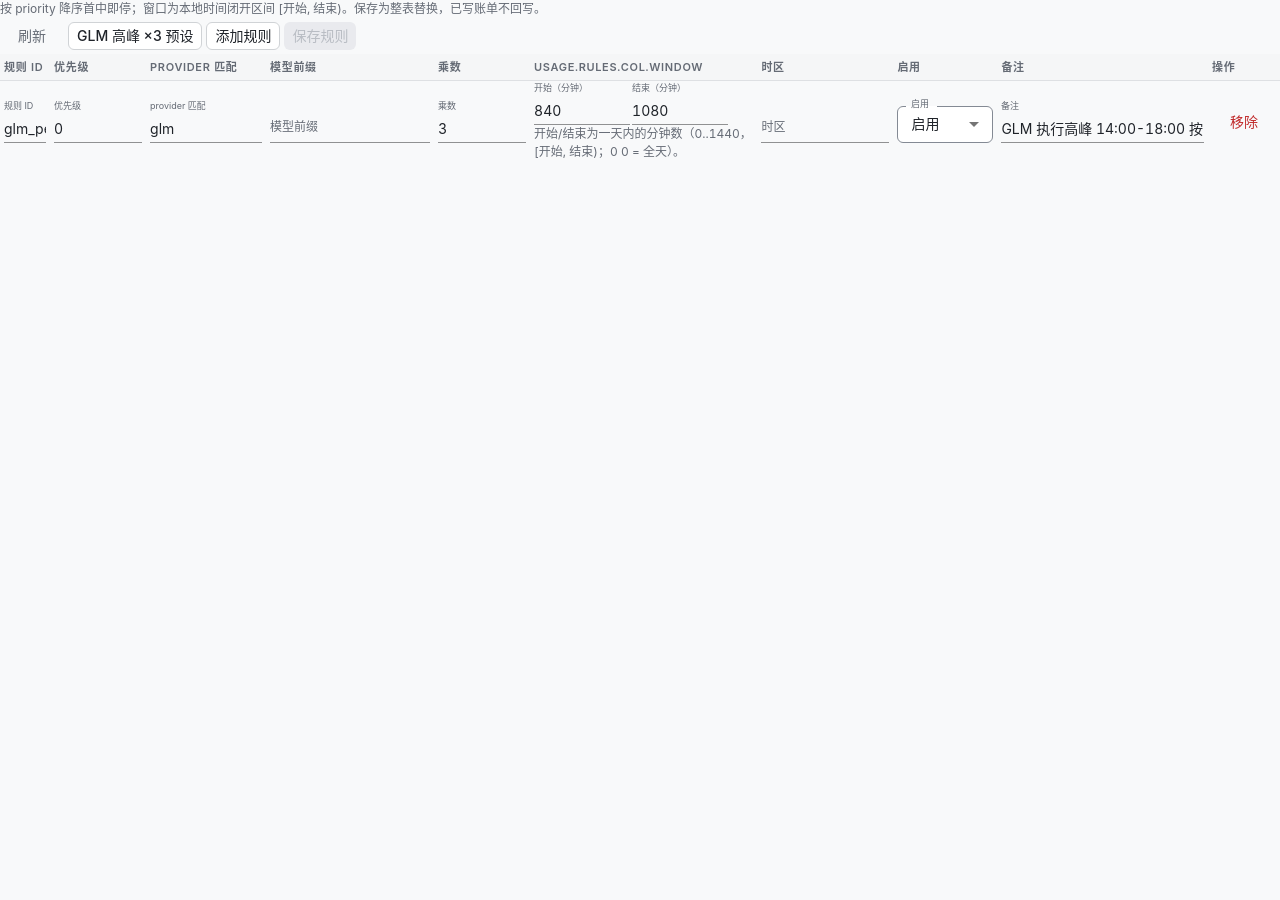
Scenario: PricingRulesEditor（计价规则） › 服务端拒绝时错误面透出且草稿保留（不假装保存成功）
This screenshot has width=1280, height=900.
Expected: the table is shown, [0, 54, 1279, 163]
Replace the text in the field showing "3" with "2.5" at (482, 130), box [438, 117, 526, 143]
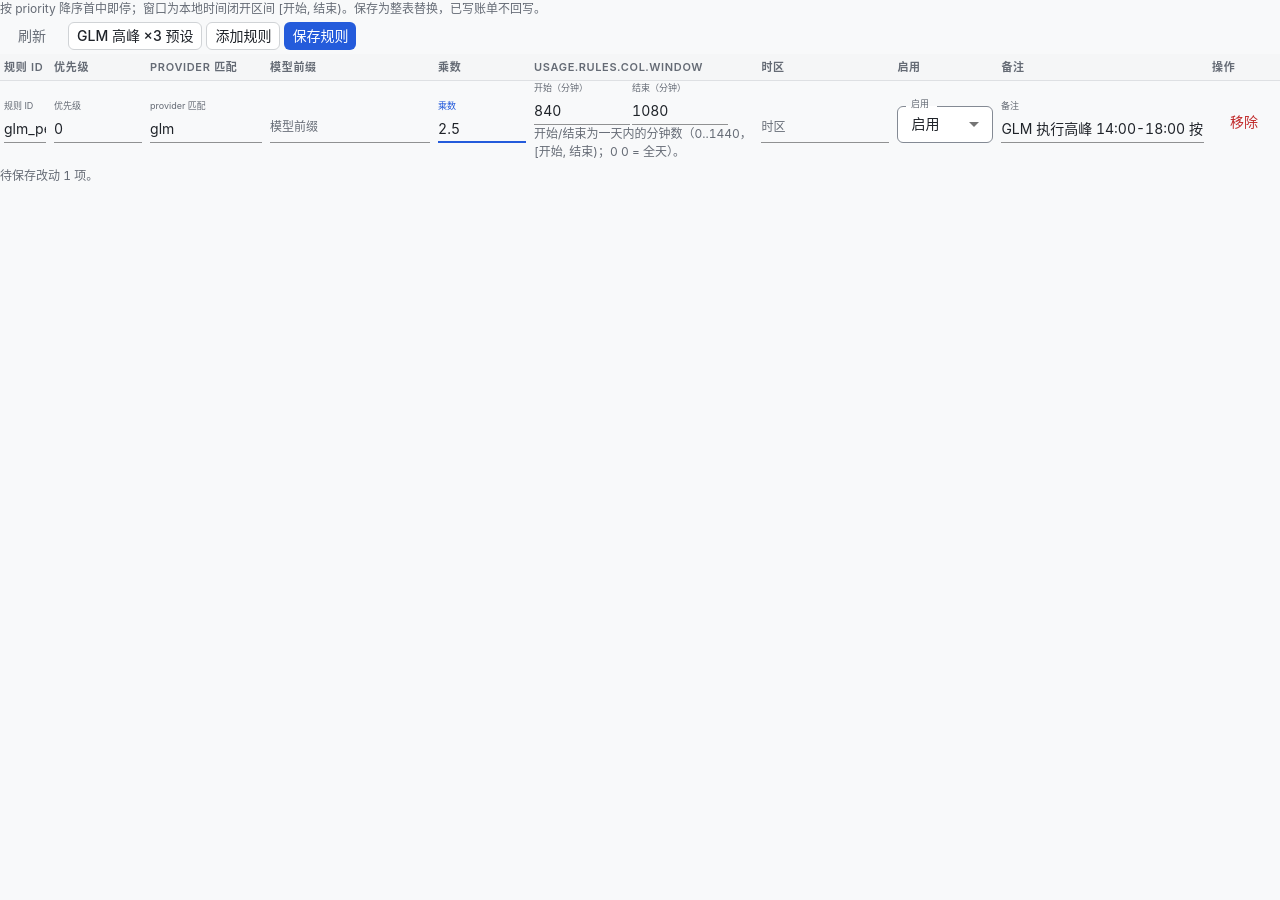
Click the button "保存规则" at (320, 36), box [284, 22, 356, 50]
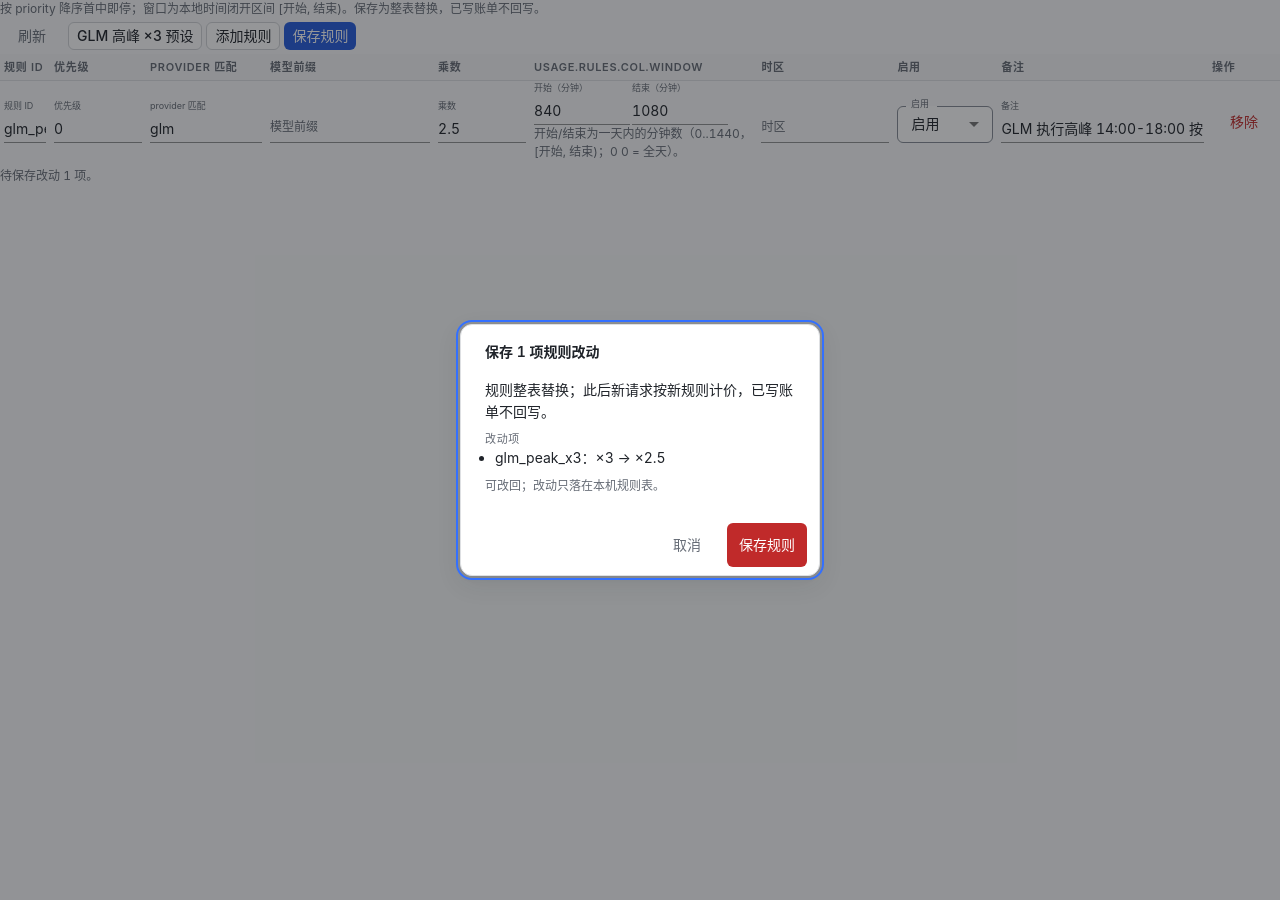
Click the button "保存规则" at (767, 545), box [727, 523, 807, 567]
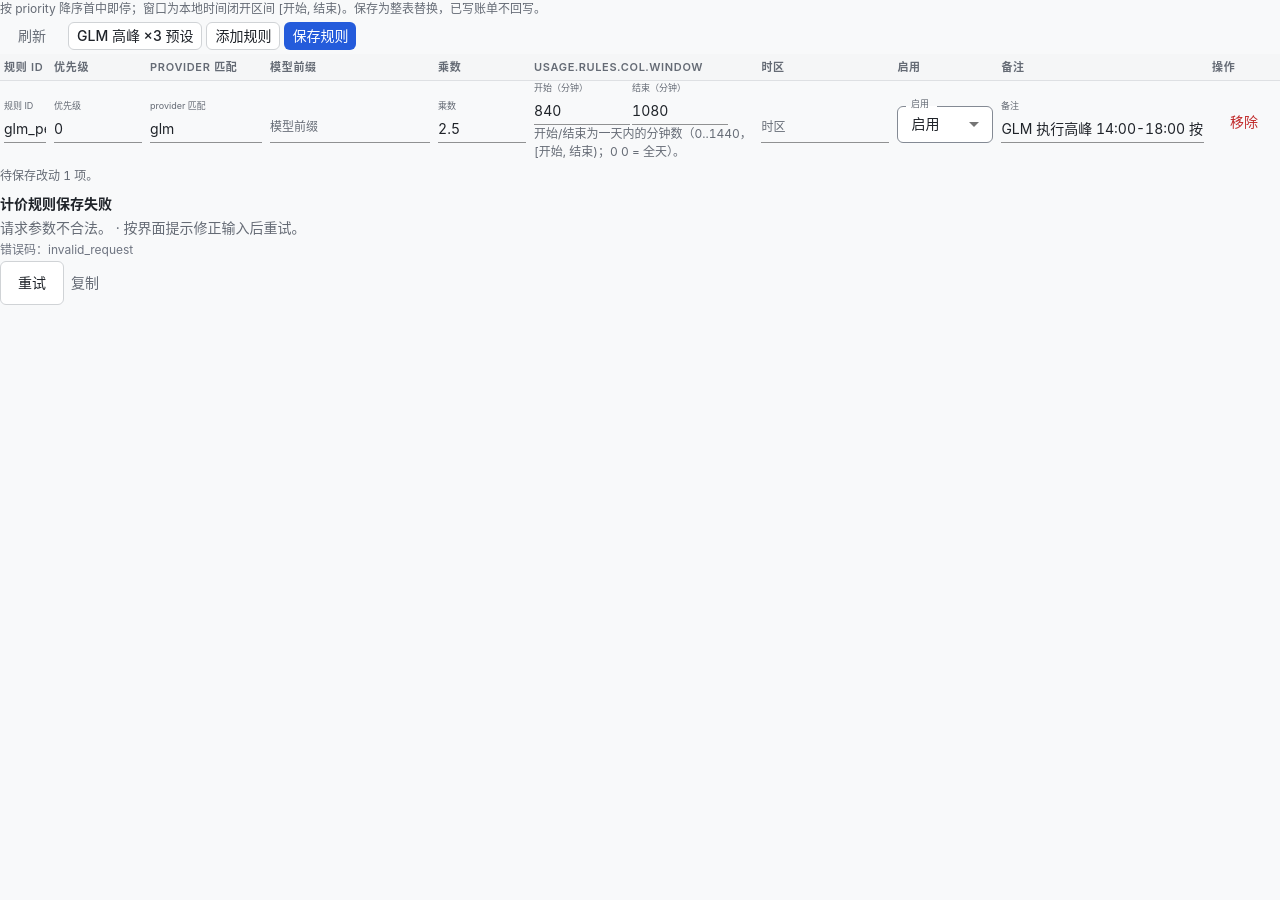
Result: the text "待保存改动 1 项。" is shown at [0, 168, 98, 183]
Result: the message shows "计价规则保存失败" at [0, 195, 112, 212]
